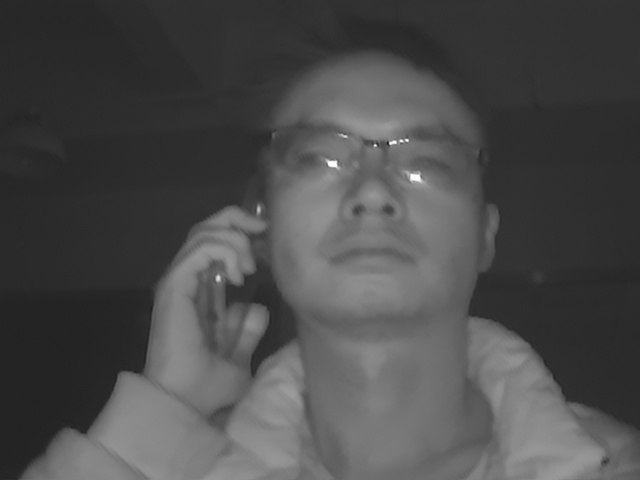hand: (141, 205, 269, 408)
